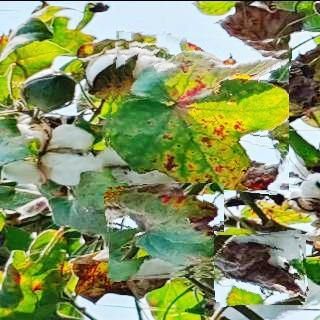blight: (104, 31, 289, 189), (105, 182, 224, 279), (214, 230, 308, 304)
